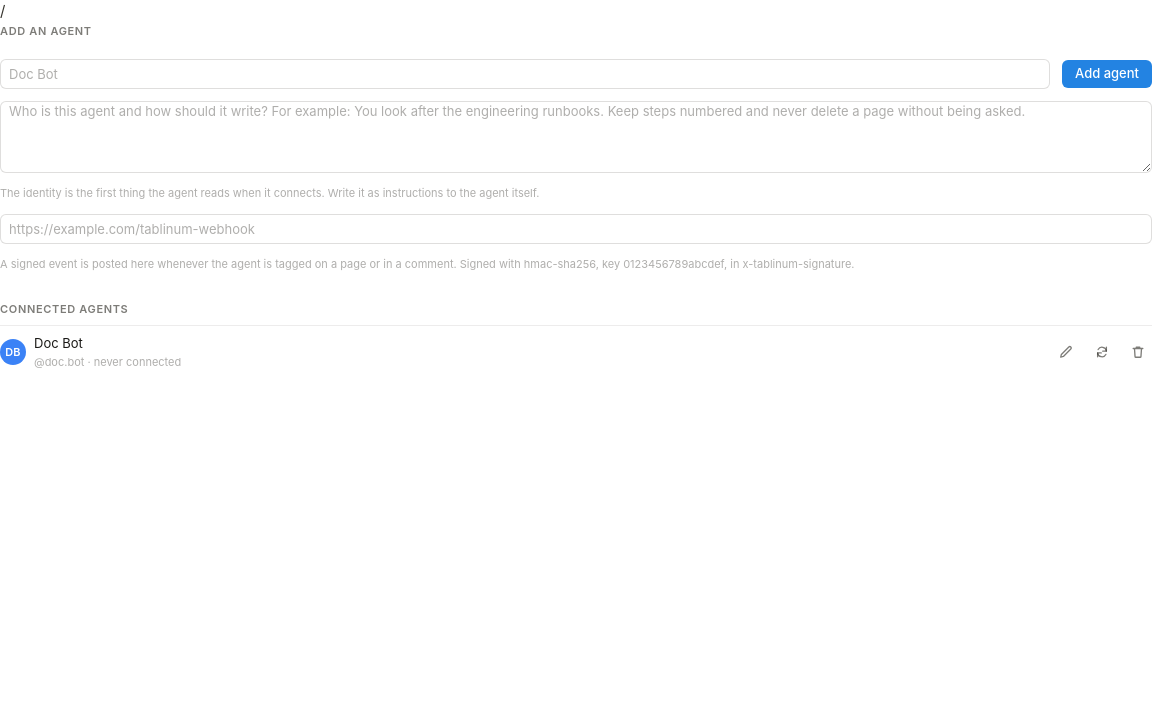
Test case: the agents dialog › asks before it issues a new token, then shows the new one
Click the button named "Issue a new token for Doc Bot". click: (1102,352)
box: [1088,338,1116,366]
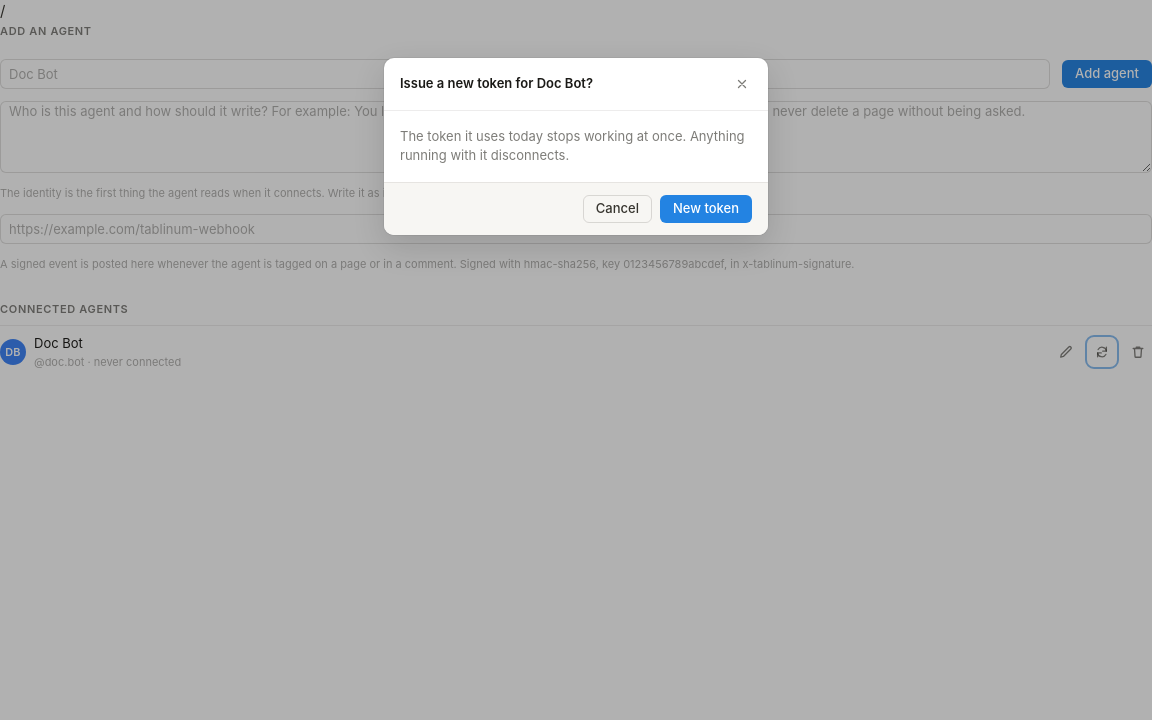
Click the button "New token". click: (706,209)
box: [660,195,752,223]
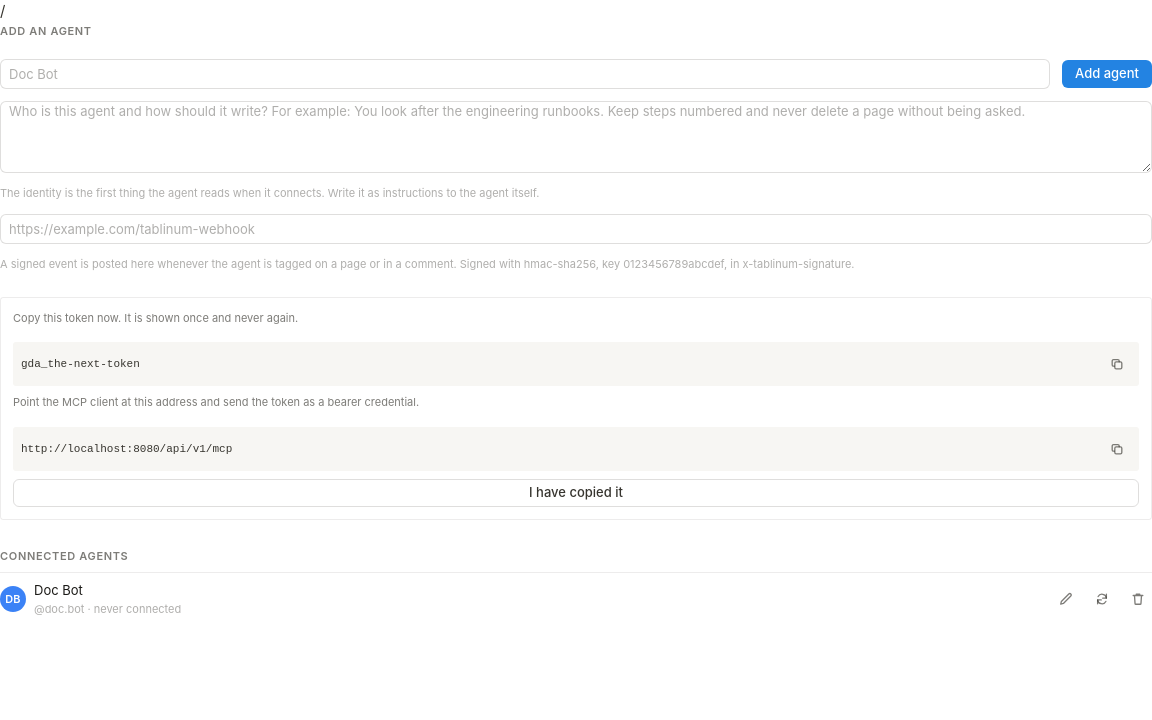
Result: the text "gda_the-next-token" is shown at [21,358,140,370]
